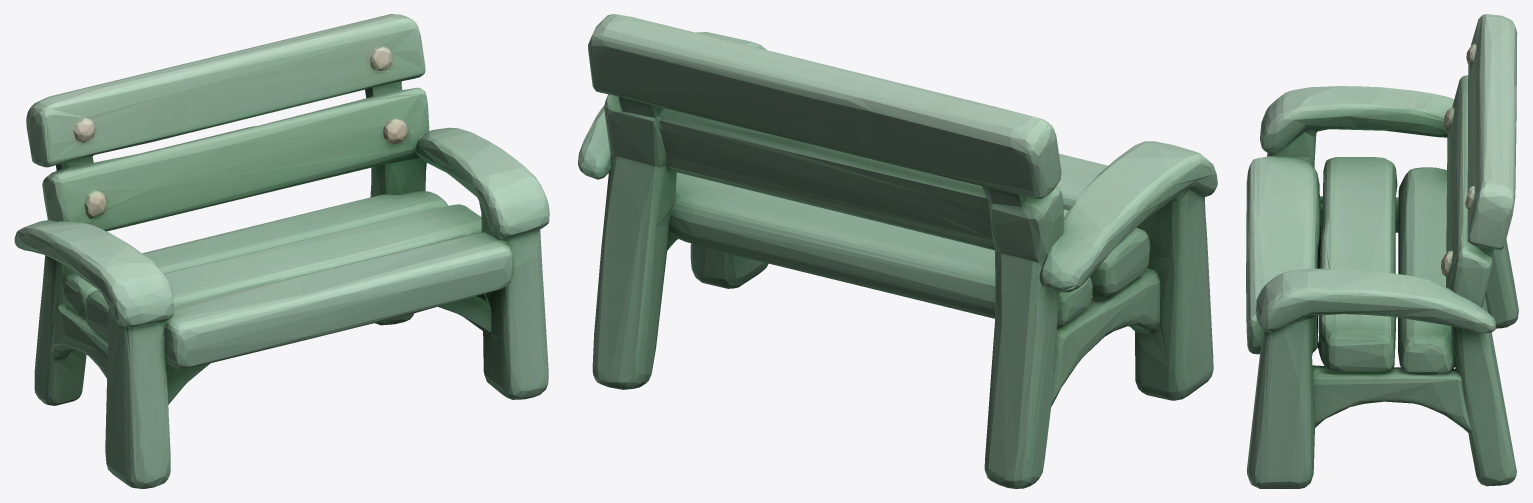
Rendered from metro_bench.glb.
The picture shows the model from 3 angles, left to right: view 1: azimuth 30°, elevation 25°; view 2: azimuth 150°, elevation 25°; view 3: azimuth 270°, elevation 25°; orthographic projection. The views are drawn at different scales.
Parts seen in each view (by area): view 1: geometry_0; view 2: geometry_0; view 3: geometry_0.
Part boxes in pixels (x1,y1,x2,y2): geometry_0: (14,14,549,488); geometry_0: (578,14,1217,488); geometry_0: (1246,14,1518,488).
Bounding box in the file's own units: 0.9942 × 0.6711 × 0.5492.
Materials: 1 (1 with a texture image).
